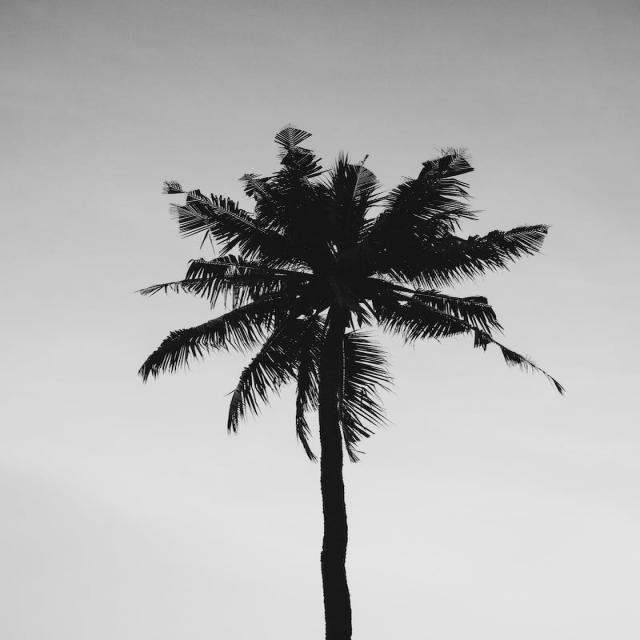Tree: (130, 113, 568, 441)
